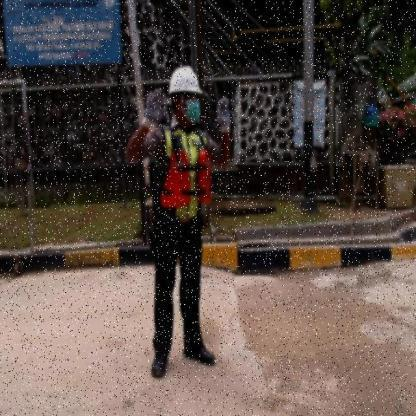boots: (182, 339, 218, 367), (151, 344, 168, 380)
gloves: (142, 87, 168, 131), (215, 95, 233, 134)
goggles: (185, 92, 200, 101)
helmet: (168, 66, 204, 93)
mask: (184, 100, 202, 124)
vest: (159, 148, 213, 210)
